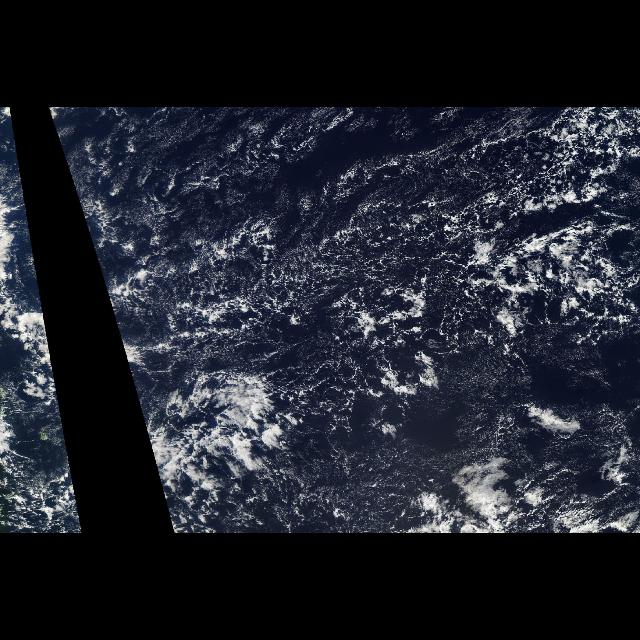Gravel: (124, 108, 640, 532)
Sugar: (291, 370, 635, 532), (47, 108, 191, 366), (1, 108, 54, 366)
